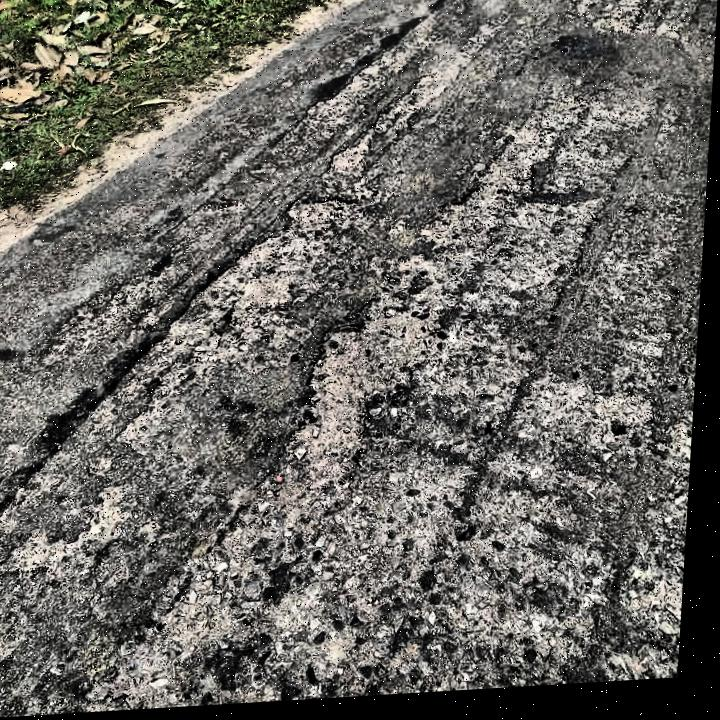pothole: (176, 192, 366, 349), (295, 301, 445, 470)
